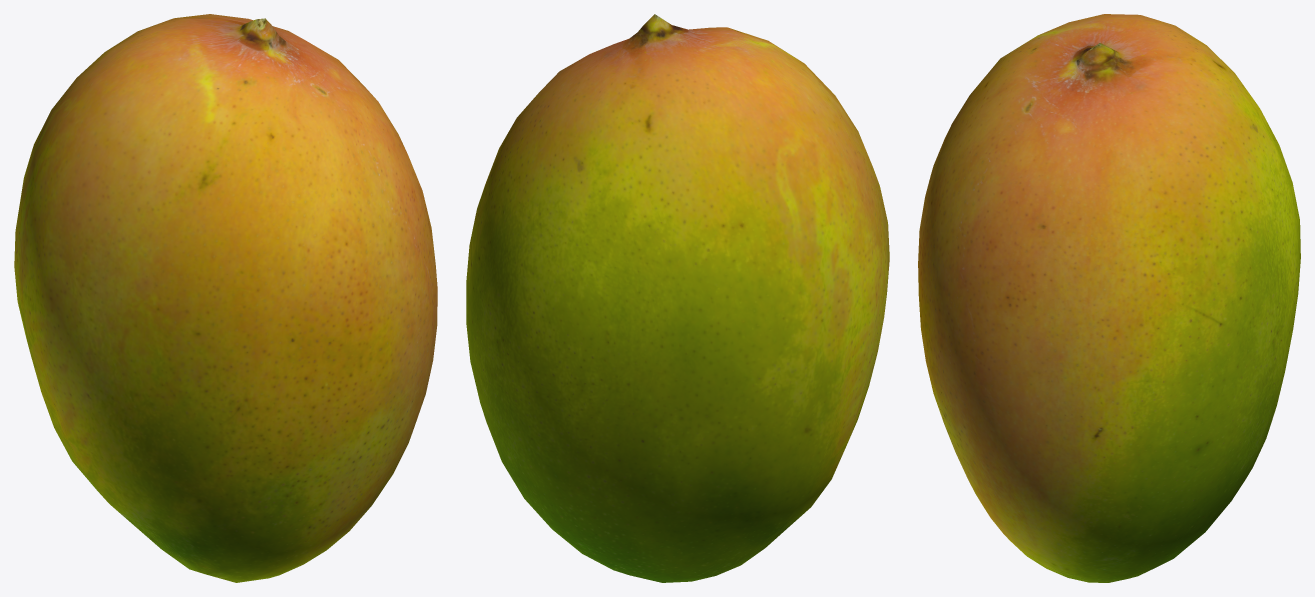
Rendered from Mango.fbx.
3 renders of one model, left to right at view 1: azimuth 30°, elevation 25°; view 2: azimuth 150°, elevation 25°; view 3: azimuth 270°, elevation 25°, orthographic. The views are drawn at different scales.
Parts seen in each view (by area): view 1: Mango; view 2: Mango; view 3: Mango.
Part boxes in pixels (x1=…): Mango: x1=14, y1=14, x2=437, y2=582; Mango: x1=466, y1=14, x2=889, y2=582; Mango: x1=918, y1=14, x2=1300, y2=582.
Size of the model in its own units: 8.44 by 11.85 by 7.71.
